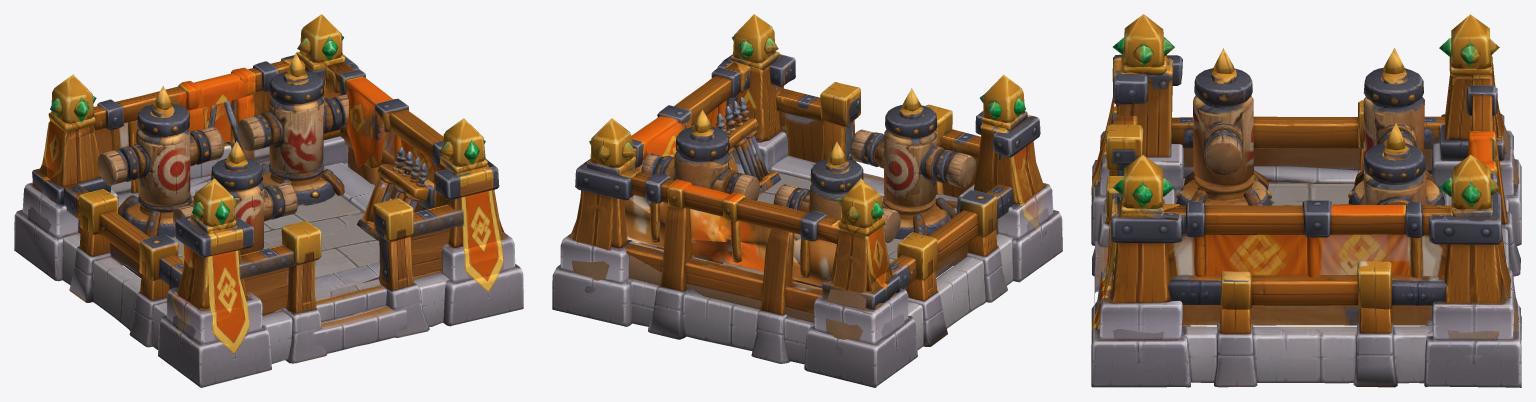
The model's file is campo-de-lanzadores_e4.glb.
3 views of the same model, side by side, from view 1: azimuth 30°, elevation 25°; view 2: azimuth 150°, elevation 25°; view 3: azimuth 270°, elevation 25° (orthographic). The views are drawn at different scales.
Visible parts, largest first — view 1: campo-de-lanzadores_cuerpo; view 2: campo-de-lanzadores_cuerpo; view 3: campo-de-lanzadores_cuerpo.
Part boxes in pixels (x1,y1,x2,y2): campo-de-lanzadores_cuerpo: (14, 14, 523, 387); campo-de-lanzadores_cuerpo: (552, 14, 1062, 387); campo-de-lanzadores_cuerpo: (1091, 14, 1521, 387).
Size of the model in its own units: 1.42 by 0.7838 by 1.42.
1 material, 1 textured.
